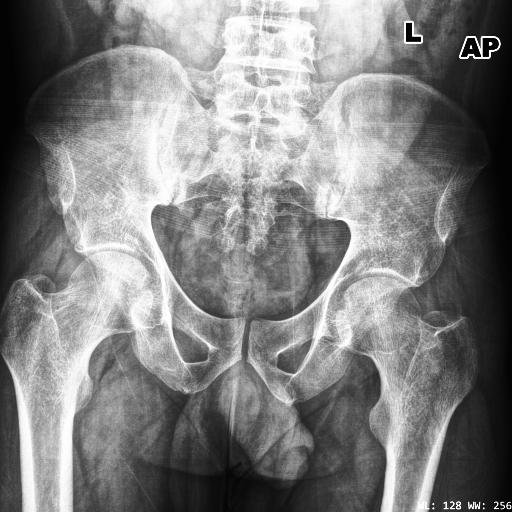normal: (0, 252, 154, 483), (335, 275, 477, 498)
